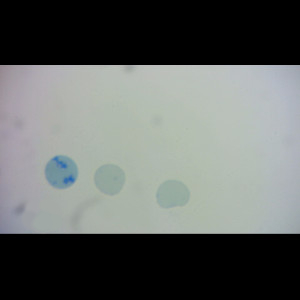aggregate reticulocyte: (43, 154, 80, 190)
erythrocyte: (155, 179, 192, 210)
punctate reticulocyte: (93, 163, 128, 197)
